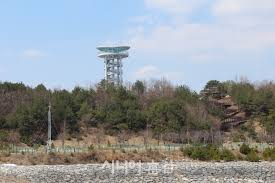forest: (2, 82, 275, 144)
sky: (1, 2, 275, 81)
